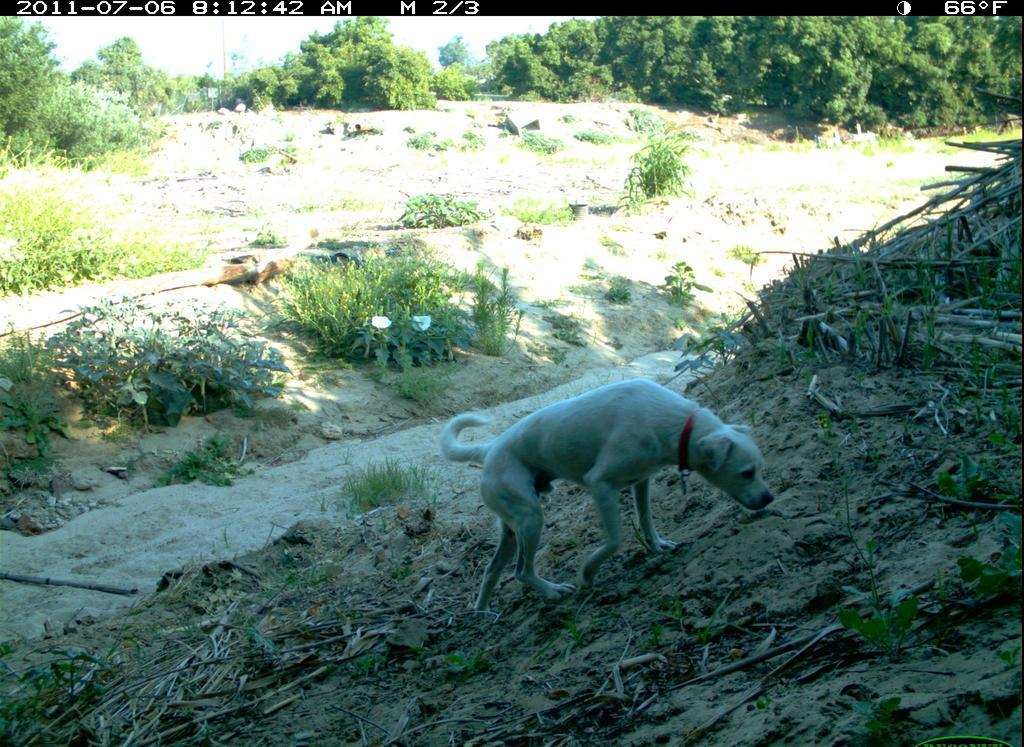dog: (434, 367, 783, 624)
